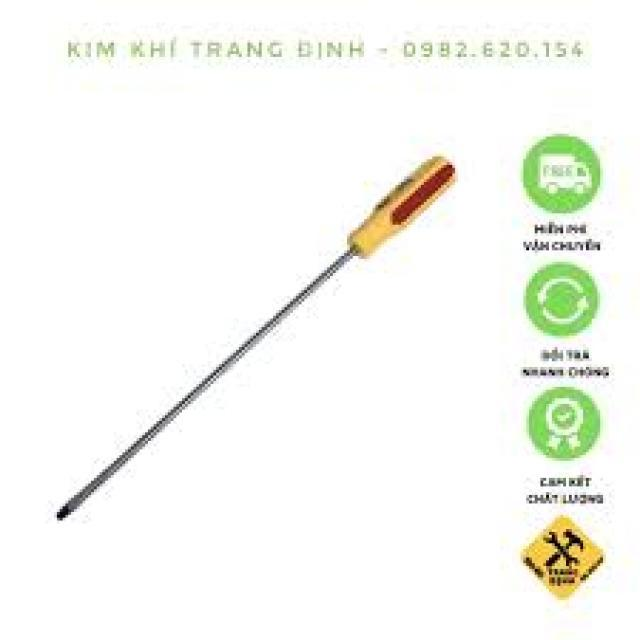screwdriver: (51, 150, 464, 524)
